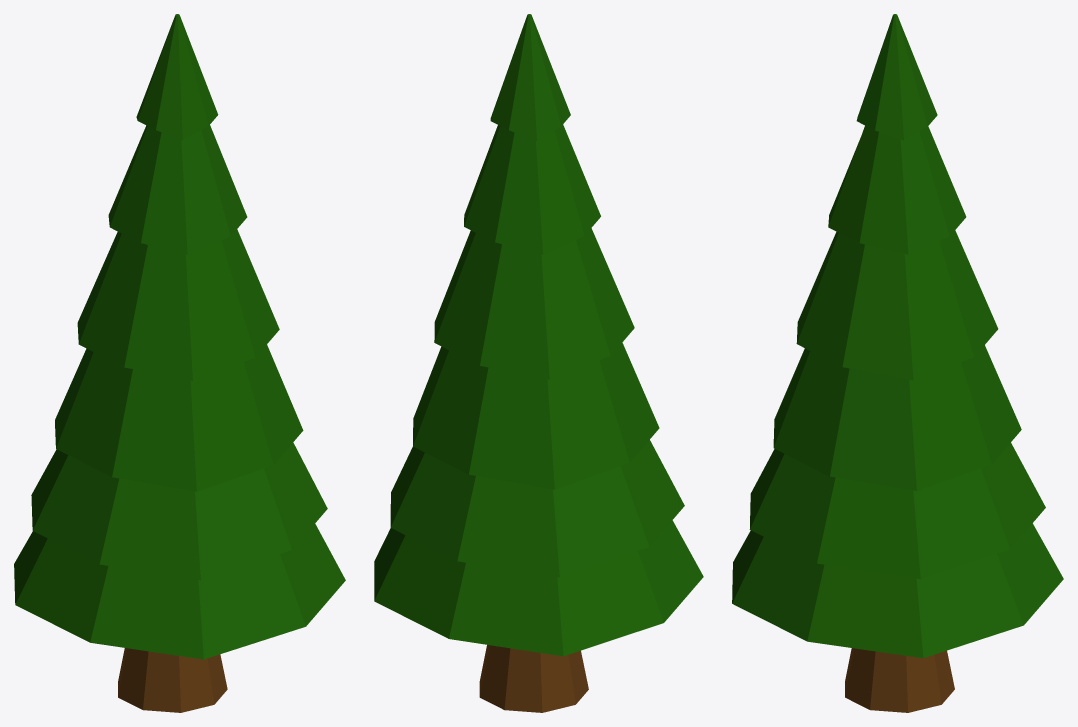
The model's file is ForestTree.fbx.
The picture shows the model from 3 angles, left to right: view 1: azimuth 30°, elevation 25°; view 2: azimuth 150°, elevation 25°; view 3: azimuth 270°, elevation 25°; orthographic projection.
Parts seen in each view (by area): view 1: Cylinder.010; view 2: Cylinder.010; view 3: Cylinder.010.
Boxes of the visible parts, x1=… form: Cylinder.010: x1=14, y1=14, x2=345, y2=712; Cylinder.010: x1=374, y1=14, x2=703, y2=712; Cylinder.010: x1=732, y1=14, x2=1063, y2=712.
Bounding box in the file's own units: 748 × 1661 × 738.
